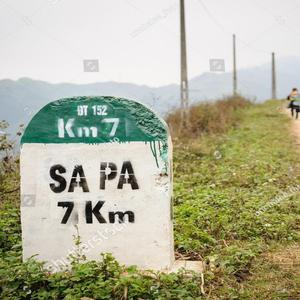kmstone: (17, 94, 180, 278)
